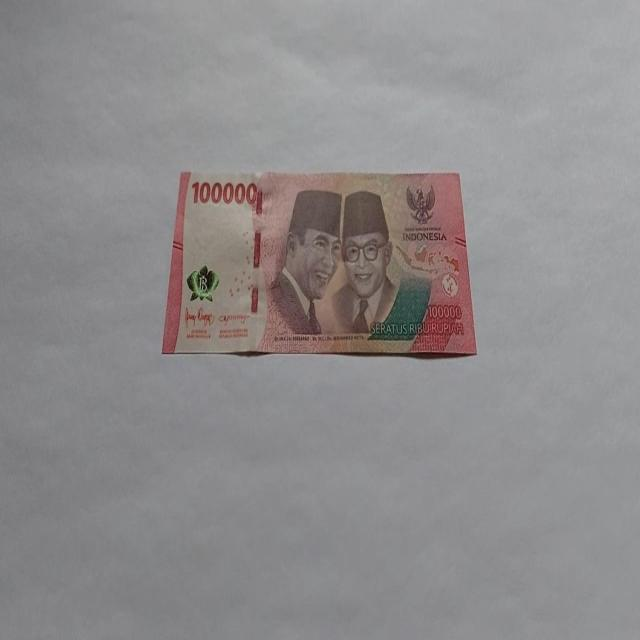Kertas: (161, 167, 477, 358)
